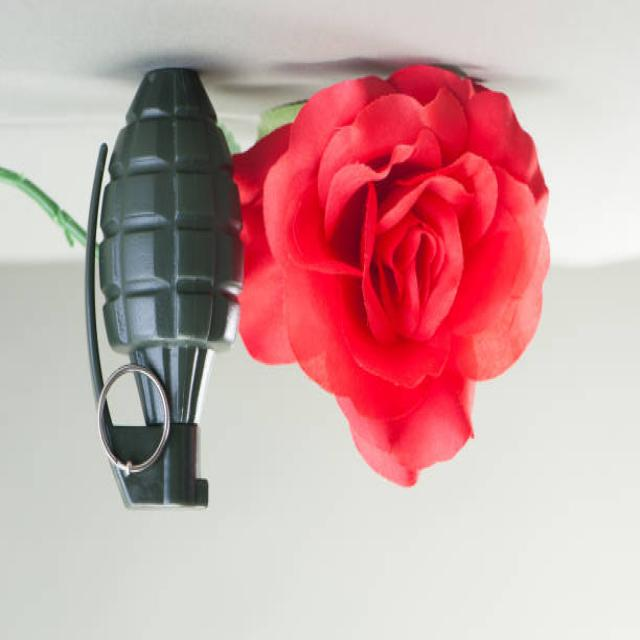grenade: (78, 55, 252, 519)
